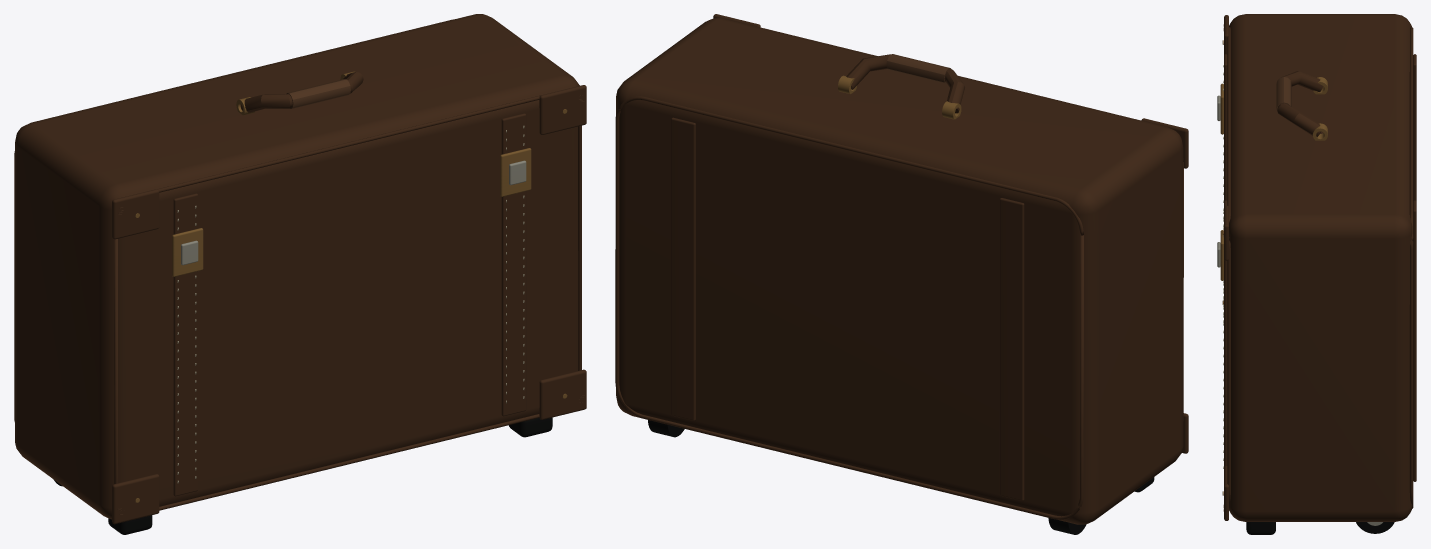
File: D04_Suitcase.fbx
3 views of the same model, side by side, from view 1: azimuth 30°, elevation 25°; view 2: azimuth 150°, elevation 25°; view 3: azimuth 270°, elevation 25° (orthographic). The views are drawn at different scales.
Visible parts, largest first — view 1: CaseShell_Mesh, HandlePivot_Mesh, LatchLeft_Mesh, LatchRight_Mesh; view 2: CaseShell_Mesh, HandlePivot_Mesh; view 3: CaseShell_Mesh, HandlePivot_Mesh, WheelLeft_Mesh, LatchRight_Mesh, LatchLeft_Mesh.
Boxes of the visible parts, x1=… form: CaseShell_Mesh: x1=14, y1=14, x2=586, y2=534; HandlePivot_Mesh: x1=240, y1=71, x2=363, y2=112; LatchLeft_Mesh: x1=500, y1=148, x2=531, y2=196; LatchRight_Mesh: x1=172, y1=228, x2=203, y2=276; CaseShell_Mesh: x1=615, y1=14, x2=1188, y2=524; HandlePivot_Mesh: x1=846, y1=54, x2=964, y2=113; CaseShell_Mesh: x1=1222, y1=14, x2=1416, y2=534; HandlePivot_Mesh: x1=1276, y1=71, x2=1323, y2=137; WheelLeft_Mesh: x1=1356, y1=522, x2=1394, y2=533; LatchRight_Mesh: x1=1217, y1=83, x2=1223, y2=134; LatchLeft_Mesh: x1=1217, y1=230, x2=1223, y2=280.
Size of the model in its own units: 0.6 by 0.458 by 0.236.
